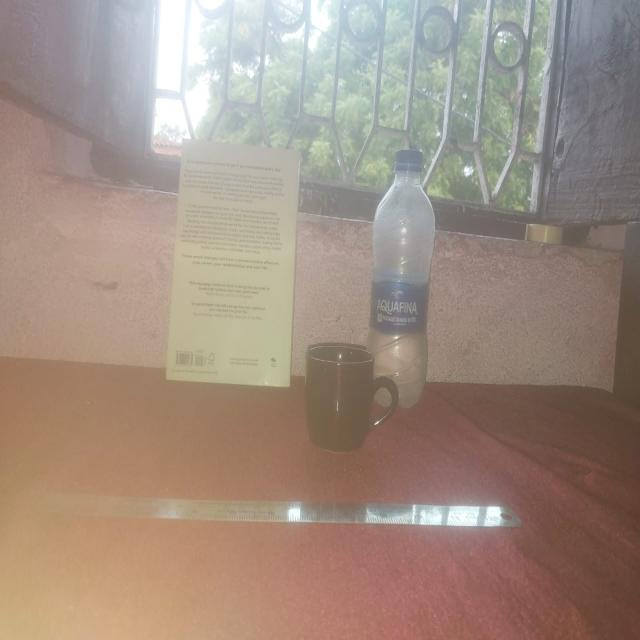Book: (168, 141, 302, 383)
Bottle: (376, 144, 435, 408)
Cup: (306, 346, 392, 446)
scale: (82, 487, 524, 532)
